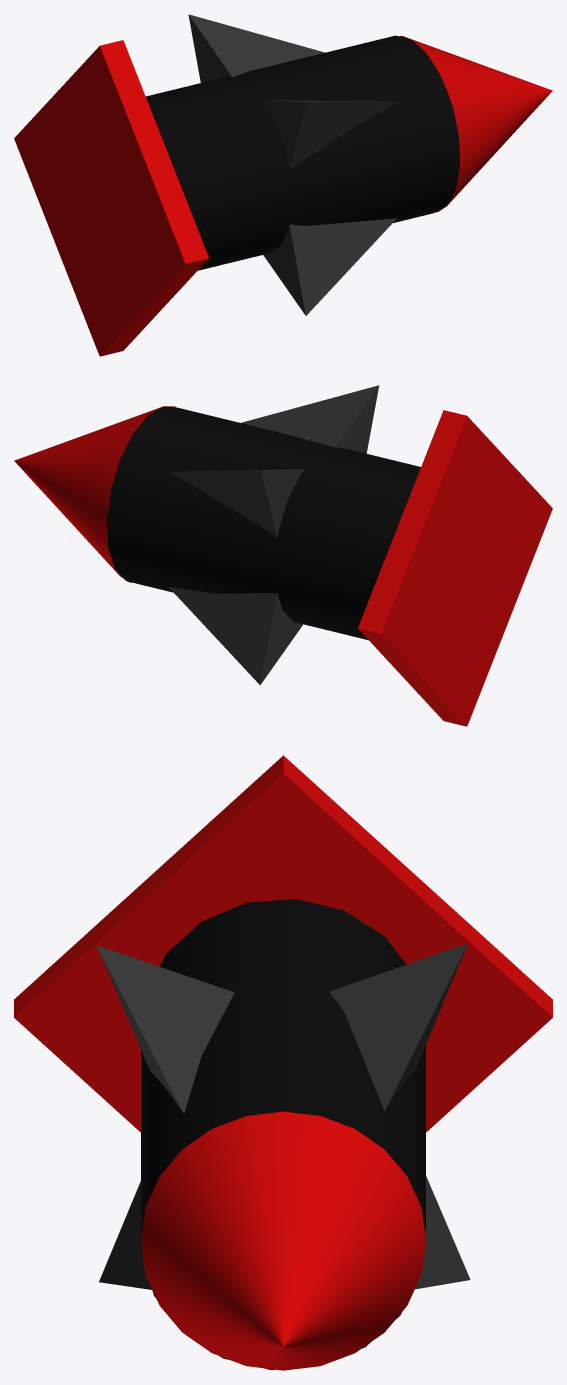
File: Sentry.FBX
The picture shows the model from 3 angles, top to bottom: view 1: azimuth 30°, elevation 25°; view 2: azimuth 150°, elevation 25°; view 3: azimuth 270°, elevation 25°; orthographic projection. The views are drawn at different scales.
Parts seen in each view (by area): view 1: ShipBody, Engine, ShipHead, ShipWing004, ShipWing002, ShipWing01; view 2: ShipBody, Engine, ShipHead, ShipWing003, ShipWing01, ShipWing002; view 3: Engine, ShipHead, ShipBody, ShipWing002, ShipWing01, ShipWing003, ShipWing004.
Part boxes in pixels (x1=…): ShipBody: x1=146, y1=35, x2=459, y2=270; Engine: x1=14, y1=40, x2=208, y2=356; ShipHead: x1=399, y1=36, x2=552, y2=212; ShipWing004: x1=263, y1=218, x2=396, y2=315; ShipWing002: x1=188, y1=14, x2=324, y2=82; ShipWing01: x1=263, y1=100, x2=397, y2=169; ShipBody: x1=107, y1=406, x2=420, y2=640; Engine: x1=358, y1=410, x2=552, y2=726; ShipHead: x1=14, y1=406, x2=176, y2=582; ShipWing003: x1=169, y1=587, x2=302, y2=684; ShipWing01: x1=241, y1=385, x2=379, y2=453; ShipWing002: x1=170, y1=469, x2=304, y2=537; Engine: x1=14, y1=755, x2=552, y2=1132; ShipHead: x1=140, y1=1111, x2=426, y2=1370; ShipBody: x1=141, y1=898, x2=425, y2=1369; ShipWing002: x1=329, y1=943, x2=467, y2=1110; ShipWing01: x1=96, y1=945, x2=234, y2=1113; ShipWing003: x1=415, y1=1176, x2=470, y2=1289; ShipWing004: x1=99, y1=1181, x2=151, y2=1289.
Bounding box in the file's own units: 173 × 113 × 113.
